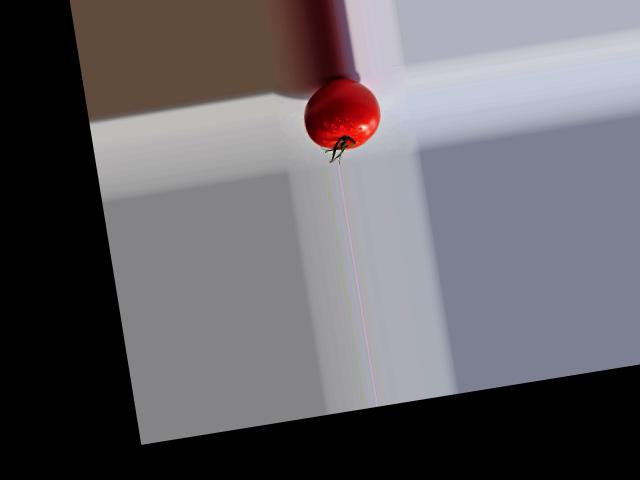tomato: (299, 72, 385, 153)
